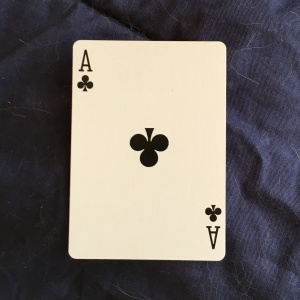card: (69, 37, 229, 263)
